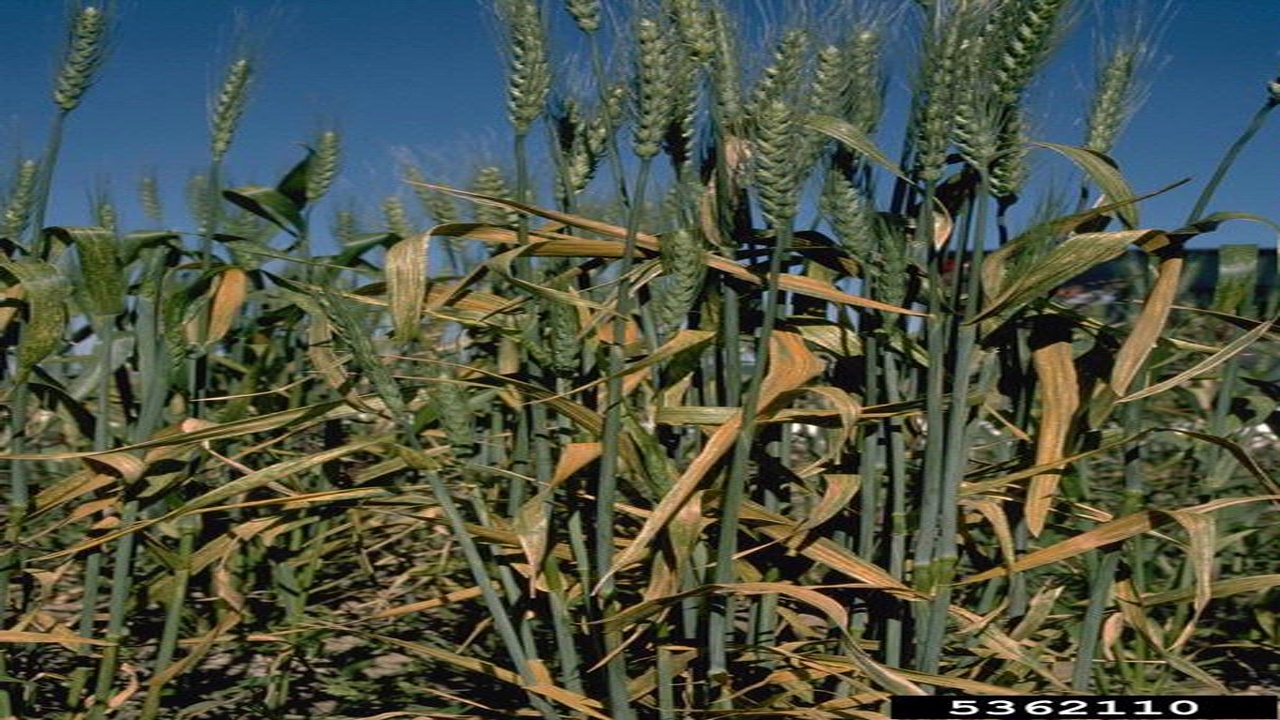stripe_rust: (611, 330, 804, 570), (810, 538, 1012, 657), (21, 422, 213, 517), (958, 507, 1181, 586), (1034, 314, 1077, 534), (380, 232, 434, 334), (1187, 499, 1225, 630), (197, 267, 258, 339), (452, 225, 563, 249)
